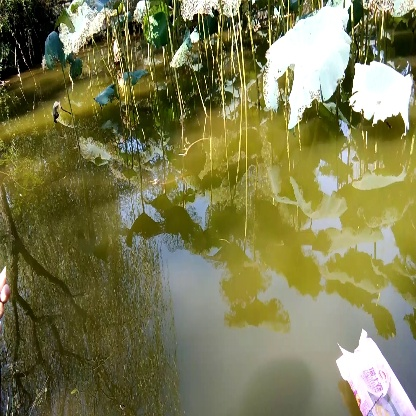plastic-bag: (333, 328, 407, 416)
